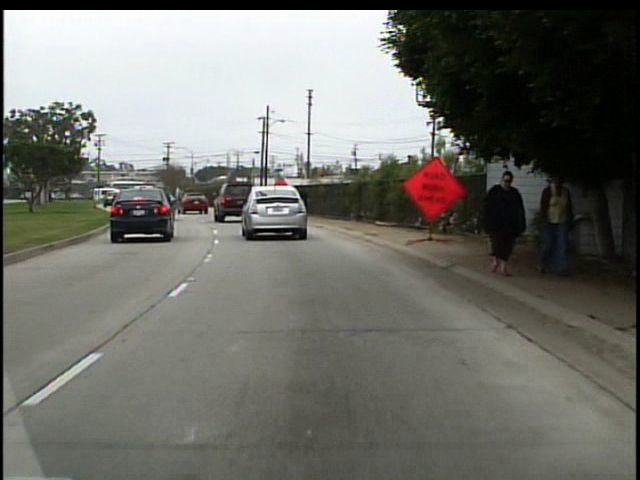person: (470, 167, 527, 285), (528, 162, 577, 283)
